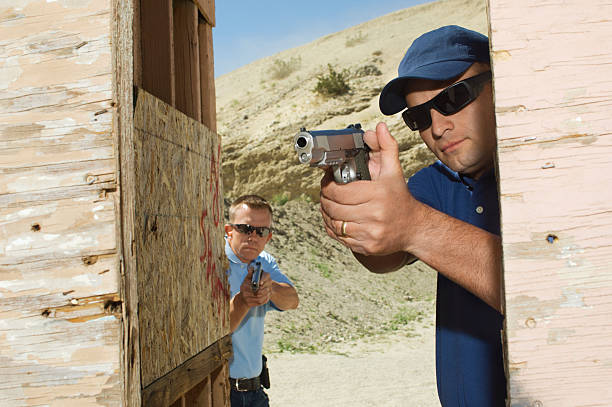gun: (294, 122, 371, 185), (251, 261, 265, 291)
